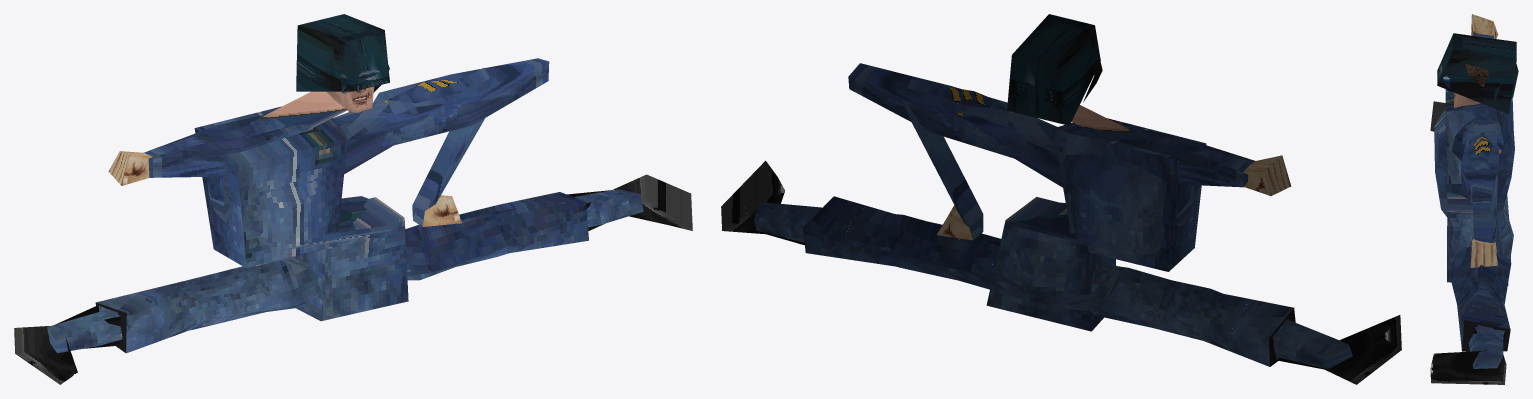
File: CpilotZ.obj
The picture shows the model from 3 angles, left to right: view 1: azimuth 30°, elevation 25°; view 2: azimuth 150°, elevation 25°; view 3: azimuth 270°, elevation 25°; orthographic projection. The views are drawn at different scales.
Bounding box in the file's own units: 2167 × 904 × 321.
25 materials, 25 textured.
